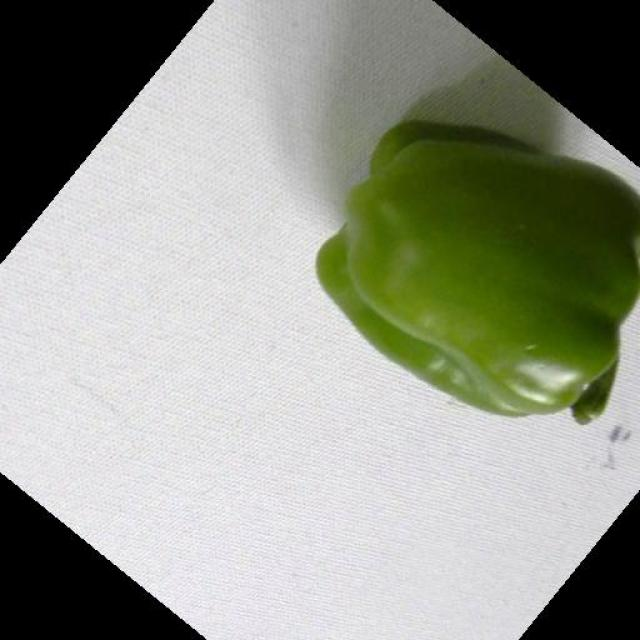Fresh_Capsicum: (338, 127, 622, 431)
